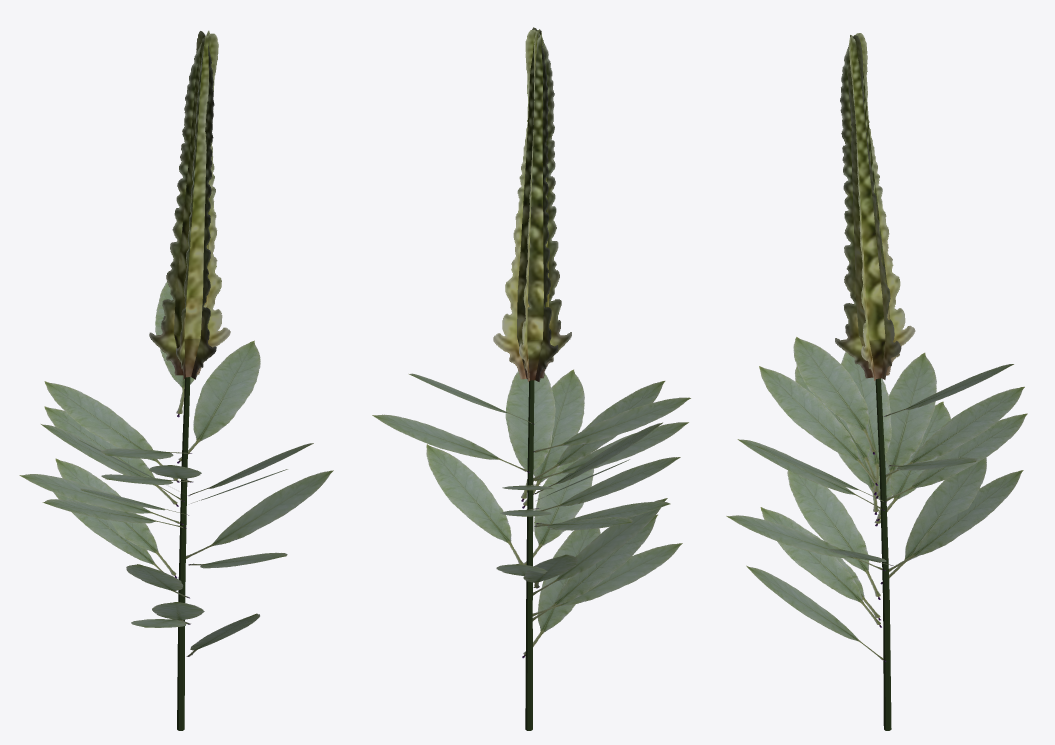
Rendered from category_mesh_flower_4_v1.glb.
3 renders of one model, left to right at view 1: azimuth 30°, elevation 25°; view 2: azimuth 150°, elevation 25°; view 3: azimuth 270°, elevation 25°, orthographic. The views are drawn at different scales.
Visible parts, largest first — view 1: category_mesh_flower_4_v1; view 2: category_mesh_flower_4_v1; view 3: category_mesh_flower_4_v1.
Boxes of the visible parts, x1,y1,x2,y2 form: category_mesh_flower_4_v1: [19, 30, 333, 730]; category_mesh_flower_4_v1: [372, 27, 690, 730]; category_mesh_flower_4_v1: [726, 33, 1027, 730].
Size of the model in its own units: 0.3081 by 0.7479 by 0.3081.
Materials: 1 (1 with a texture image).
